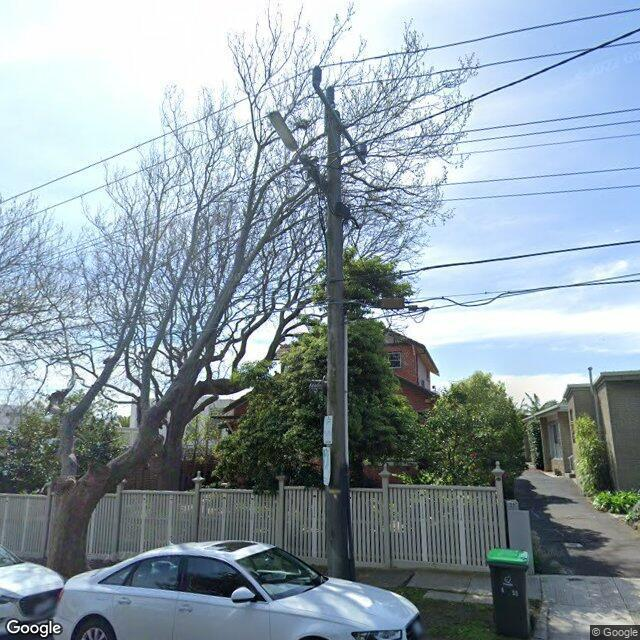HV-transmission: (313, 66, 367, 157)
crossarm: (312, 81, 366, 165), (302, 155, 329, 193)
streetlight: (268, 110, 302, 160)
timber-pole: (325, 110, 356, 582)
